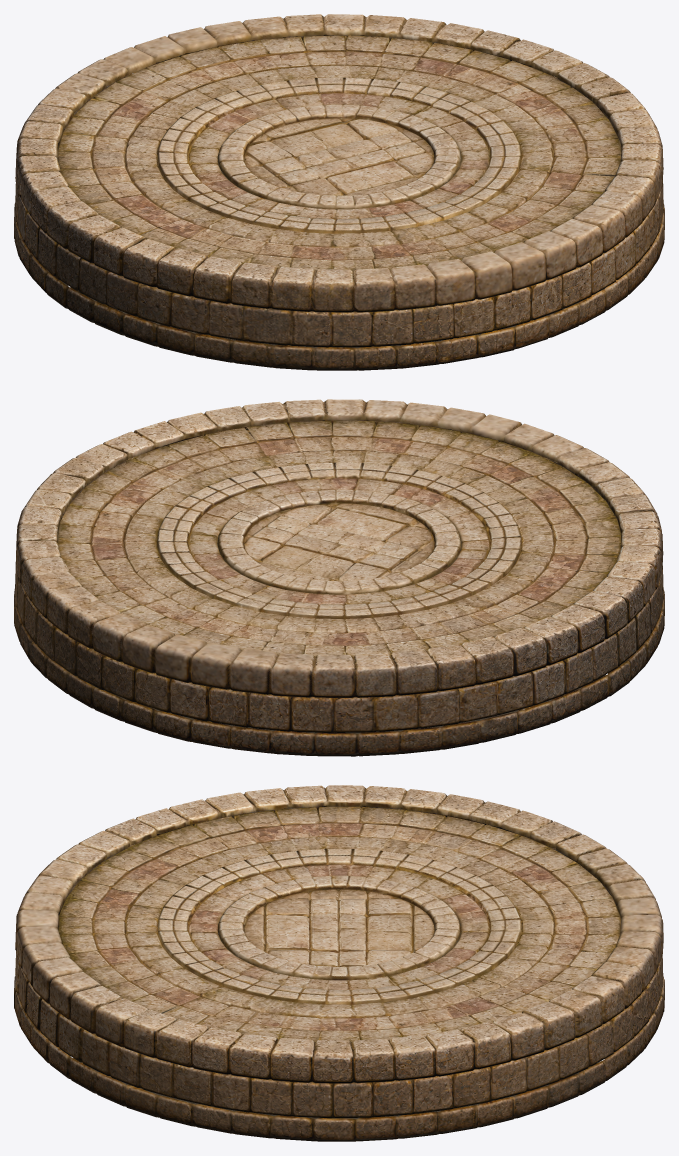
Rendered from stone_circular_platform_3d_model.fbx.
3 renders of one model, top to bottom at view 1: azimuth 30°, elevation 25°; view 2: azimuth 150°, elevation 25°; view 3: azimuth 270°, elevation 25°, orthographic.
Parts seen in each view (by area): view 1: dff1da7d_46f0_438b_ad21_3068ddc27886; view 2: dff1da7d_46f0_438b_ad21_3068ddc27886; view 3: dff1da7d_46f0_438b_ad21_3068ddc27886.
Part boxes in pixels (left/top/right/bottom): dff1da7d_46f0_438b_ad21_3068ddc27886: left=14, top=14, right=664, bottom=370; dff1da7d_46f0_438b_ad21_3068ddc27886: left=14, top=399, right=664, bottom=756; dff1da7d_46f0_438b_ad21_3068ddc27886: left=14, top=785, right=664, bottom=1141.
Bounding box in the file's own units: 0.9995 × 0.1489 × 0.9995.
1 material, 1 textured.
